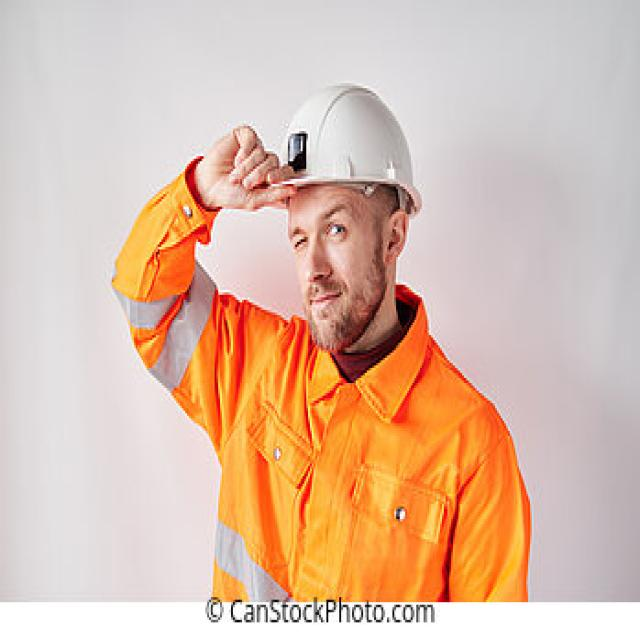helmet: (251, 85, 453, 192)
no-goggles: (267, 206, 399, 263)
vest: (224, 318, 532, 600)
